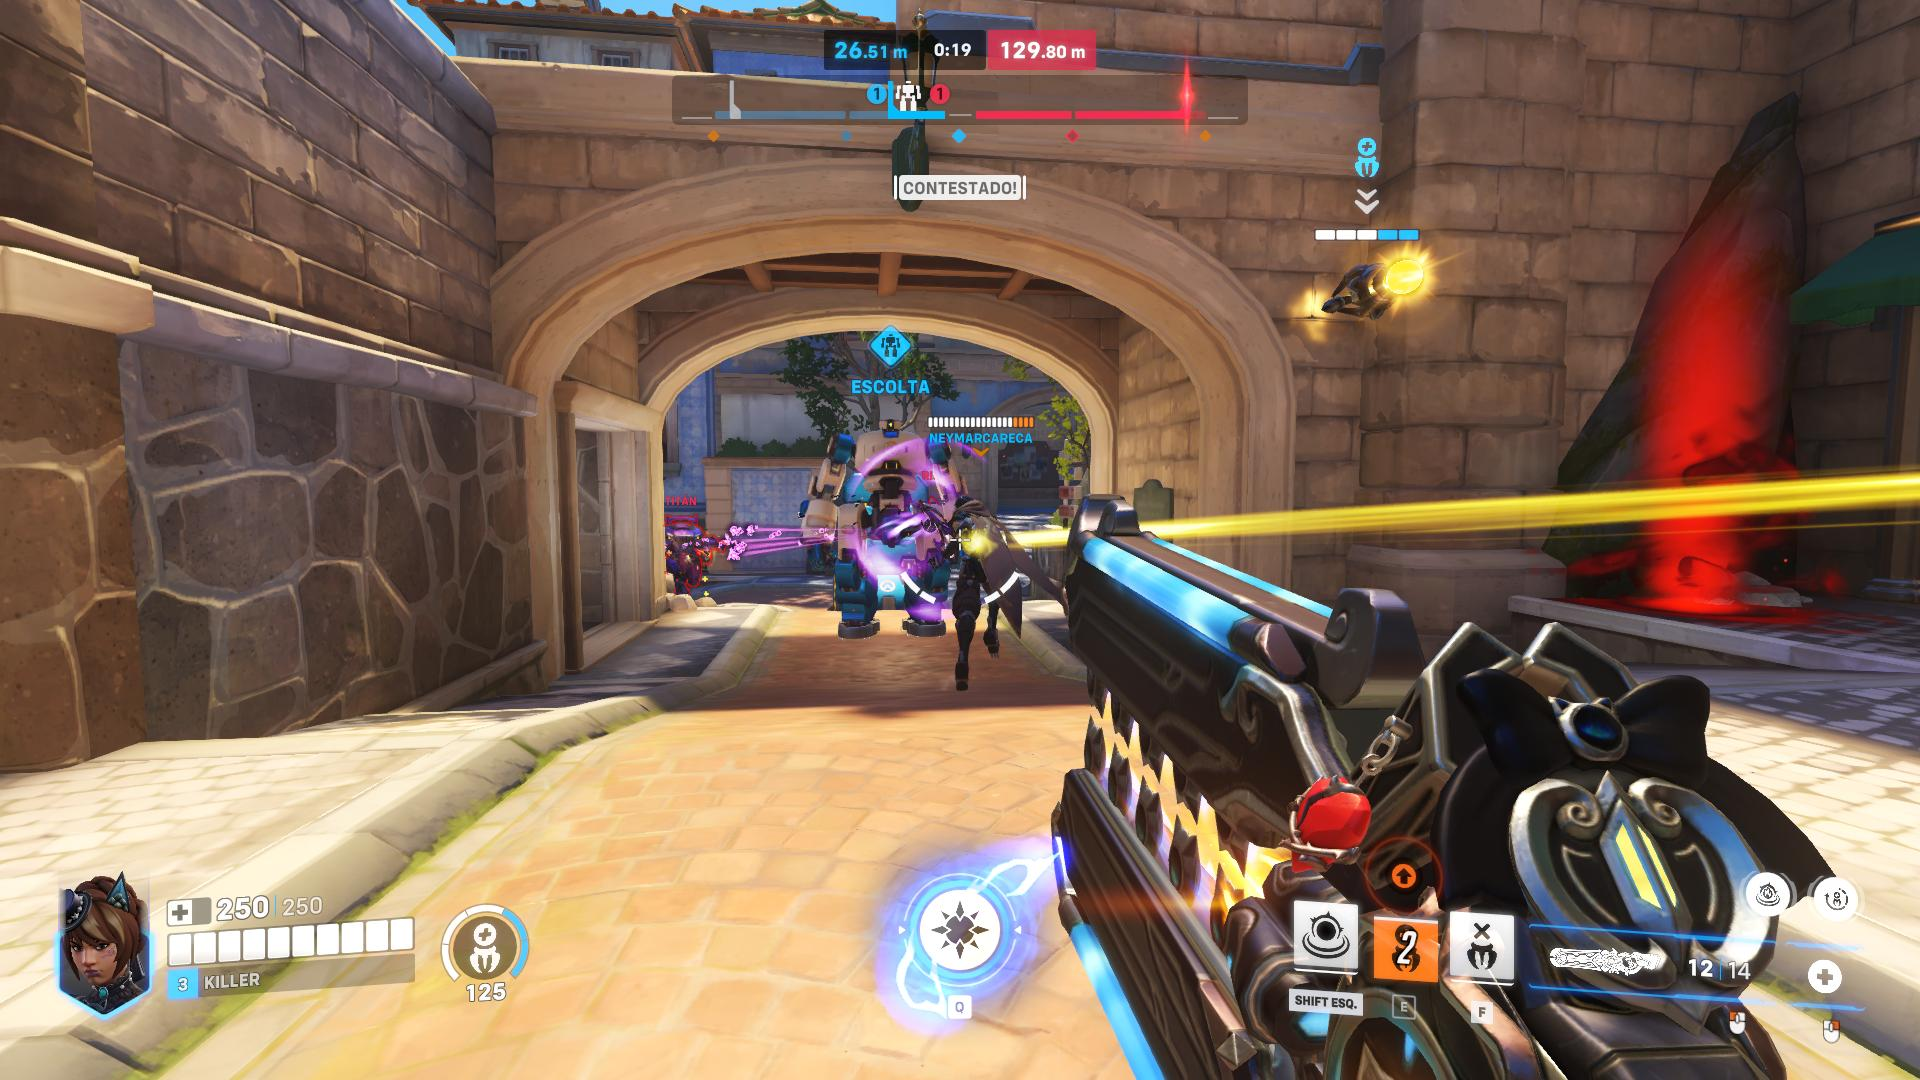enemy: (665, 516, 702, 595)
